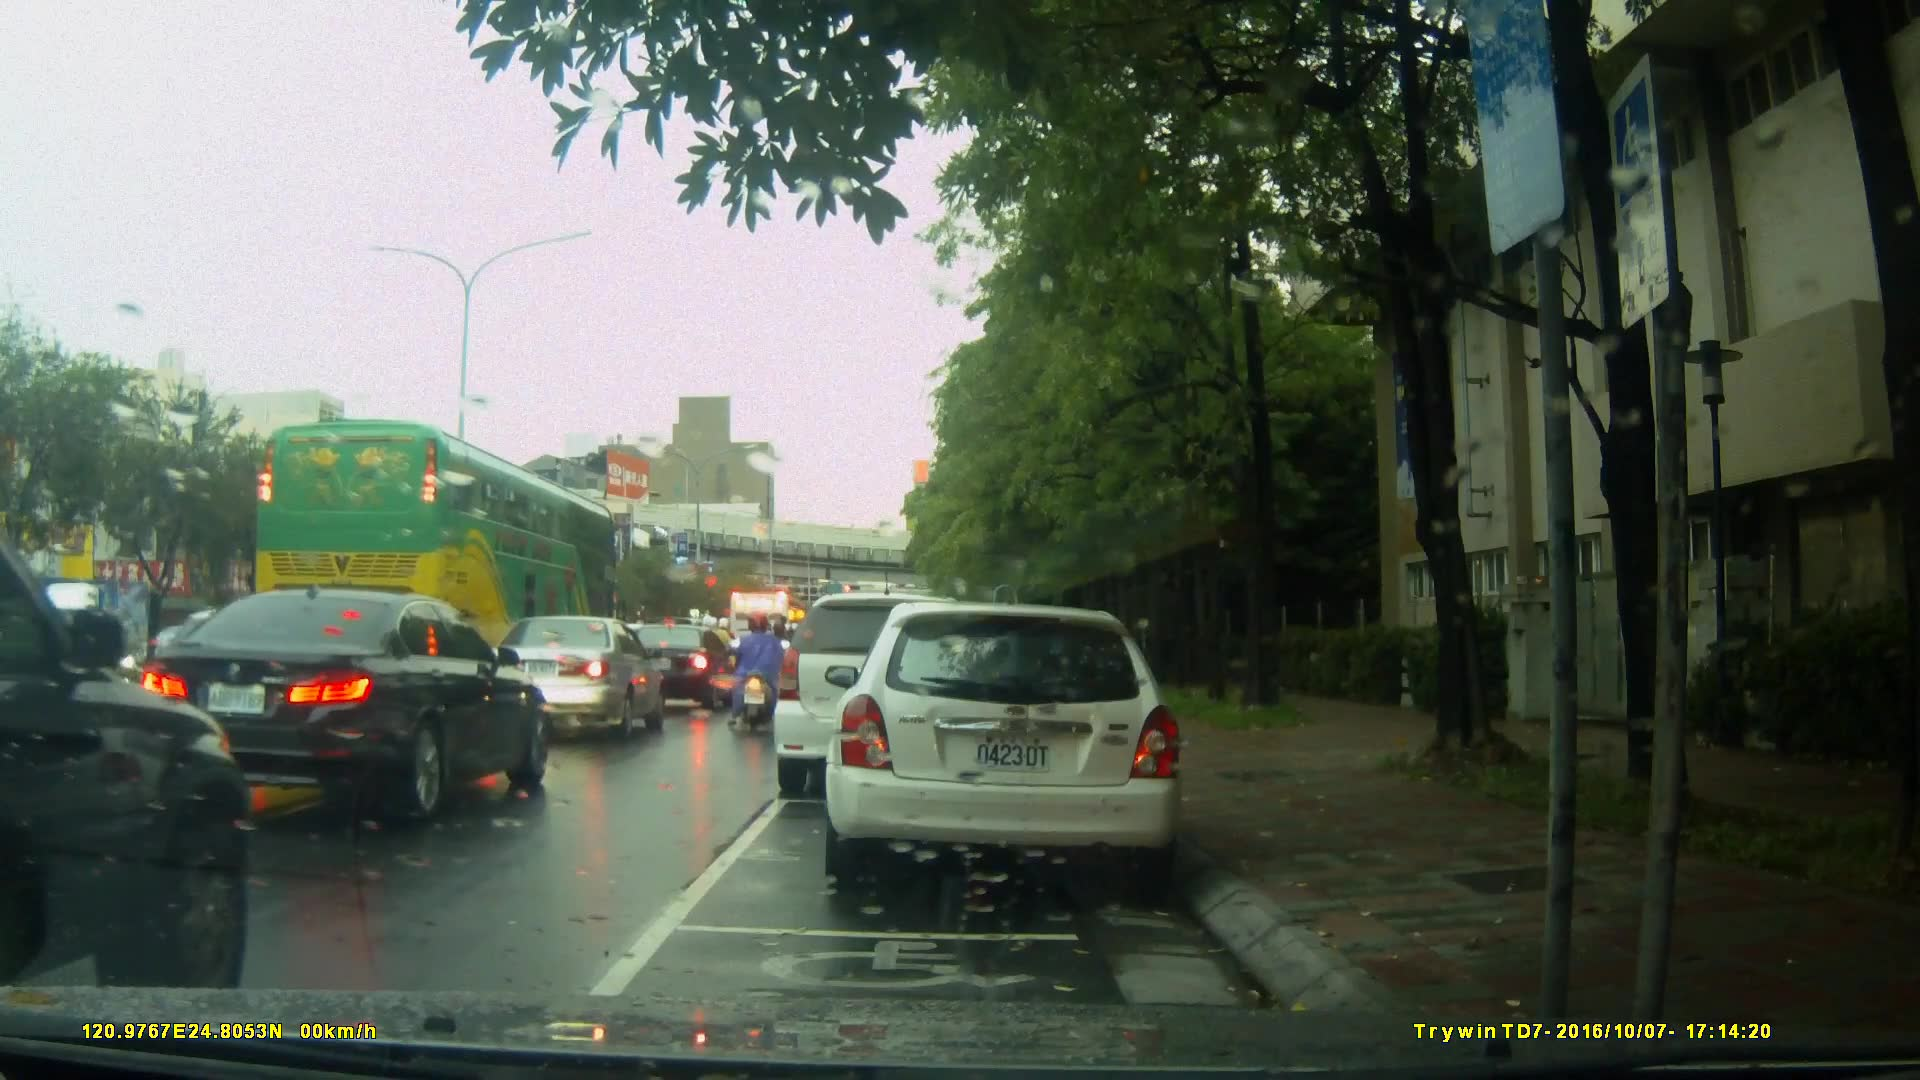rider: (726, 605, 787, 728)
vehicle: (1, 500, 258, 992), (831, 592, 1196, 897), (131, 587, 556, 825), (249, 417, 624, 658), (771, 592, 999, 796), (478, 614, 666, 747), (622, 623, 735, 713), (719, 586, 802, 705)
